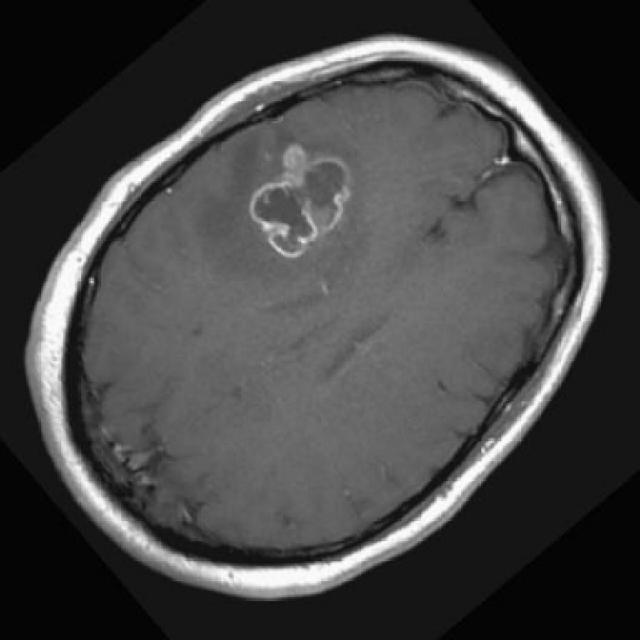Brain-Tumor: (245, 131, 376, 266)
